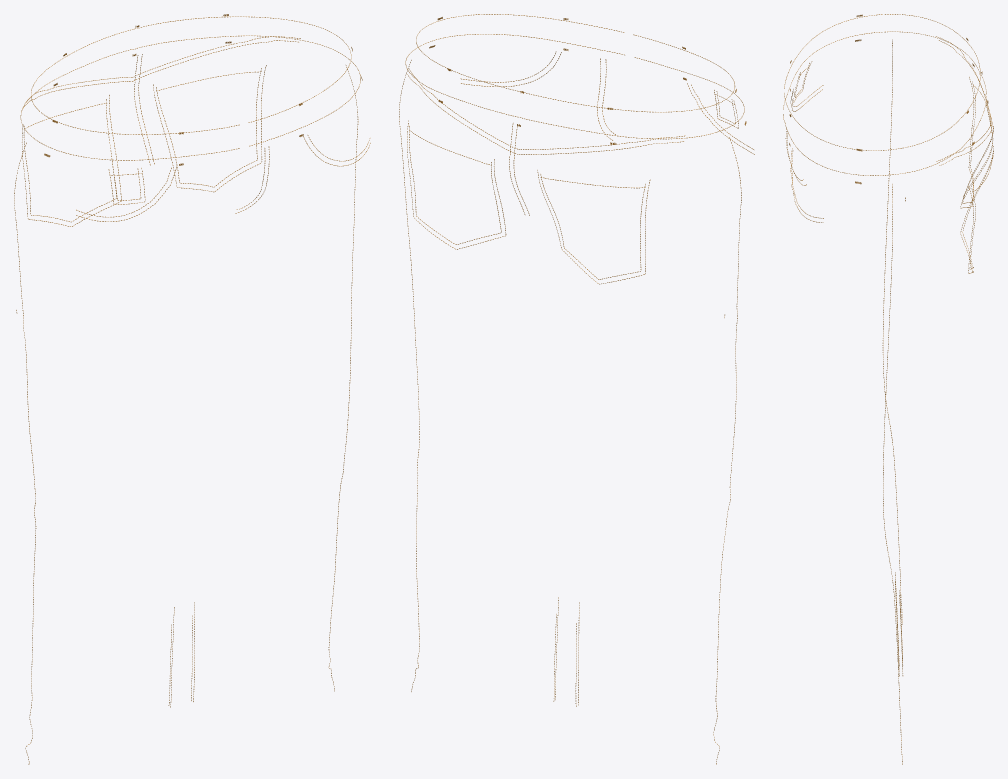
The model's file is 28_vaquero_boyfriend_costuras.glb.
3 views of the same model, side by side, from view 1: azimuth 30°, elevation 25°; view 2: azimuth 150°, elevation 25°; view 3: azimuth 270°, elevation 25° (orthographic). The views are drawn at different scales.
Visible parts, largest first — view 1: stitch; view 2: stitch; view 3: stitch.
Boxes of the visible parts, bbox=[...] form: stitch: bbox=[14, 14, 370, 764]; stitch: bbox=[399, 14, 754, 764]; stitch: bbox=[783, 14, 993, 764].
Bounding box in the file's own units: 0.4701 × 0.8785 × 0.2694.
